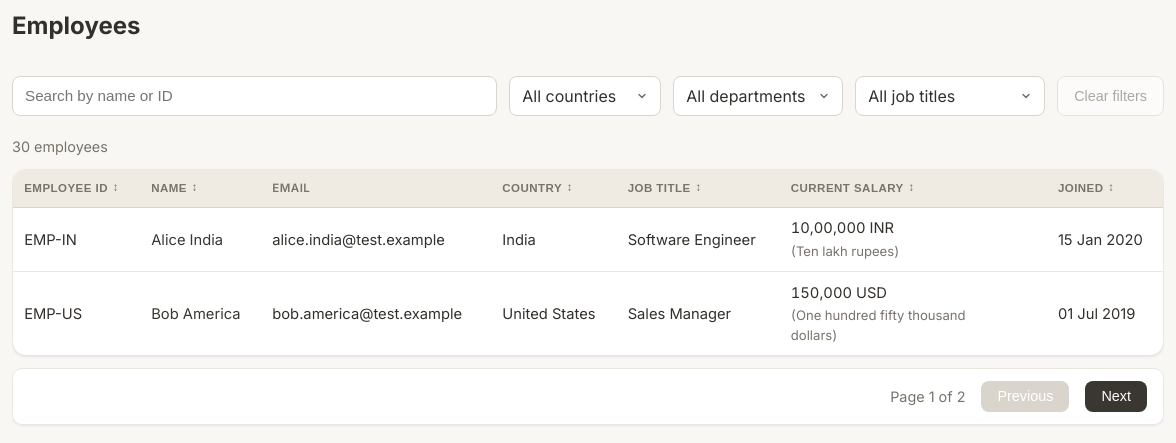
Test case: EmployeesPage › shows only the matching rows after applying a country filter
The width and height of the screenshot is (1176, 443).
Expected: the button "Alice India" is shown, [151,228,223,251]
Expected: the button "Bob America" is shown, [151,303,240,325]
Select "India" in the dropdown named "Country" at (585, 96), box [509,76,661,116]
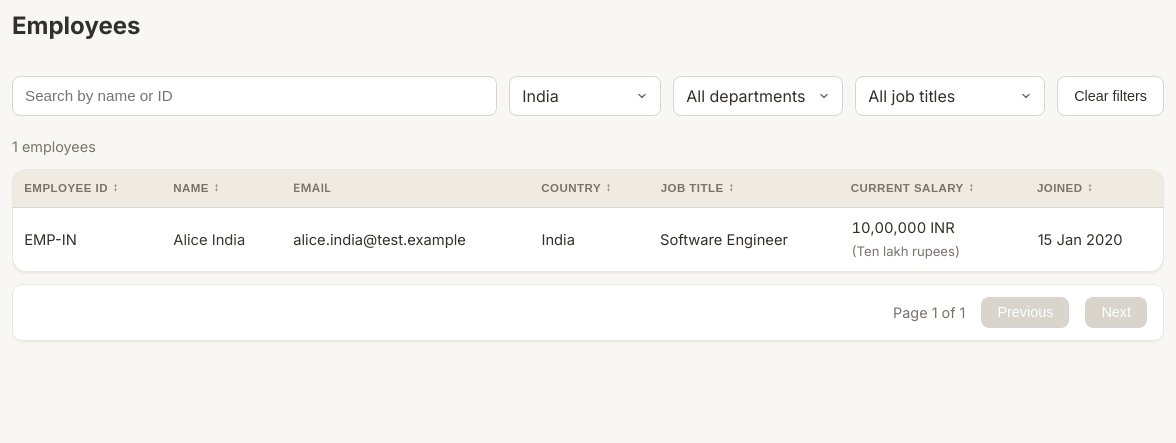
Expected: the button "Alice India" is shown, [173,228,245,251]
Expected: the button "Bob America" is gone
Expected: the button "Clear filters" is enabled, [1057,76,1164,116]
